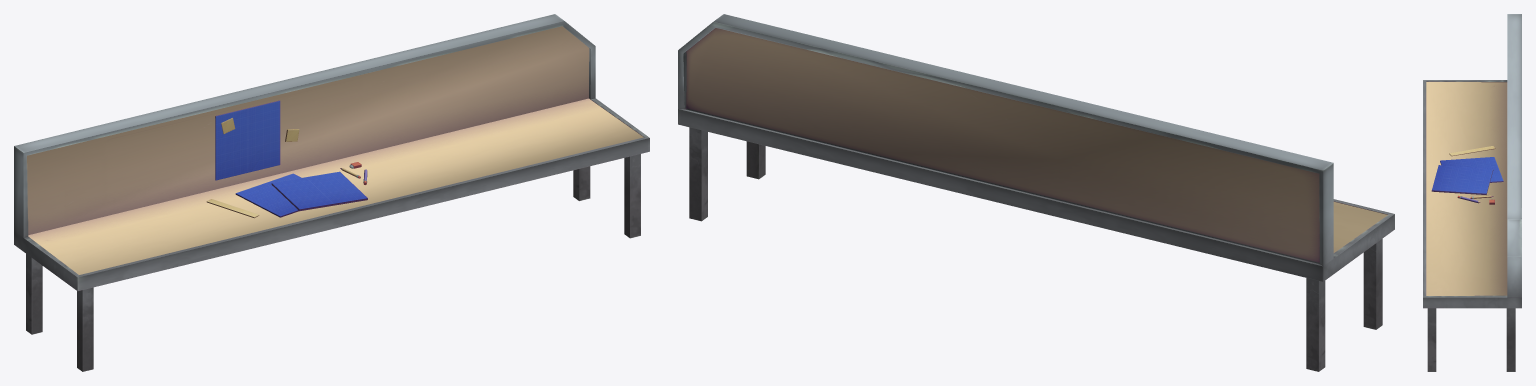
The model's file is MesaBluePrints.fbx.
3 renders of one model, left to right at view 1: azimuth 30°, elevation 25°; view 2: azimuth 150°, elevation 25°; view 3: azimuth 270°, elevation 25°, orthographic. The views are drawn at different scales.
Visible parts, largest first — view 1: MesaBluePrint, Blueprint_0, Blueprint_1, Blueprint_2; view 2: MesaBluePrint; view 3: MesaBluePrint, Blueprint_1, Blueprint_2, Regua.
Part boxes in pixels (x1=…): MesaBluePrint: x1=14, y1=14, x2=649, y2=371; Blueprint_0: x1=215, y1=100, x2=280, y2=180; Blueprint_1: x1=271, y1=171, x2=367, y2=210; Blueprint_2: x1=235, y1=173, x2=301, y2=217; MesaBluePrint: x1=678, y1=14, x2=1394, y2=371; MesaBluePrint: x1=1423, y1=14, x2=1521, y2=371; Blueprint_1: x1=1431, y1=165, x2=1493, y2=194; Blueprint_2: x1=1440, y1=157, x2=1503, y2=182; Regua: x1=1449, y1=146, x2=1495, y2=156.
Bounding box in the file's own units: 459 × 141 × 88.36.
1 material, 1 textured.
